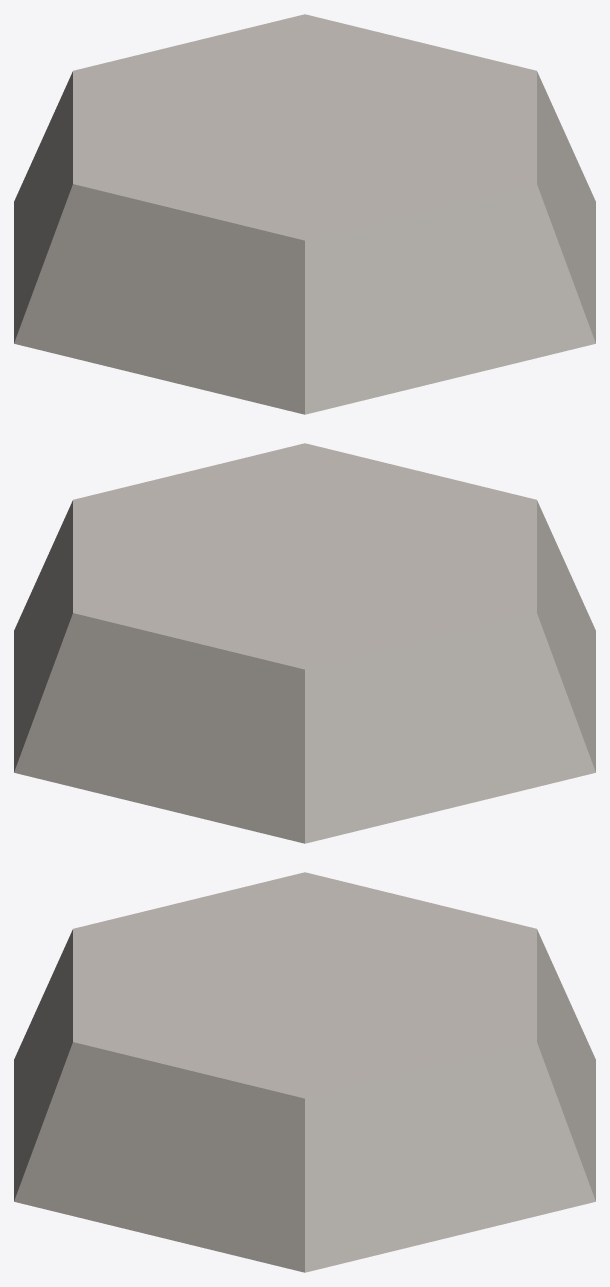
File: SM_Prop_Checkers_Piece_01.fbx
3 views of the same model, one above another, from view 1: azimuth 30°, elevation 25°; view 2: azimuth 150°, elevation 25°; view 3: azimuth 270°, elevation 25° (orthographic).
Visible parts, largest first — view 1: SM_Prop_Checkers_Piece_01; view 2: SM_Prop_Checkers_Piece_01; view 3: SM_Prop_Checkers_Piece_01.
Boxes of the visible parts, bbox=[...] form: SM_Prop_Checkers_Piece_01: bbox=[14, 14, 595, 414]; SM_Prop_Checkers_Piece_01: bbox=[14, 443, 595, 843]; SM_Prop_Checkers_Piece_01: bbox=[14, 872, 595, 1272].
Bounding box in the file's own units: 7.04 × 1.68 × 6.1.
